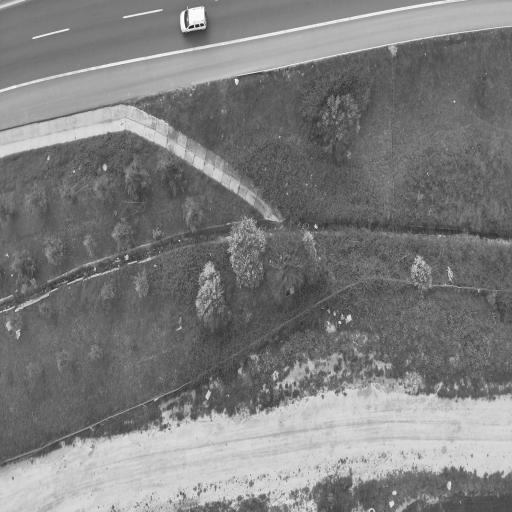car: (180, 7, 205, 33)
